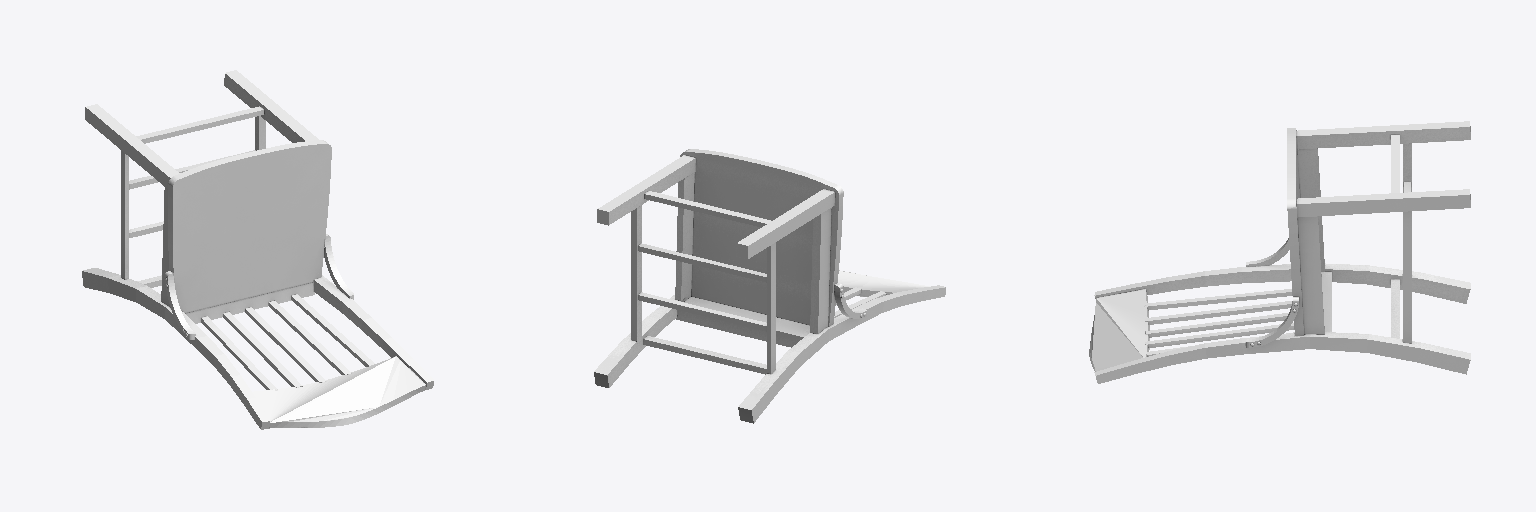
3 views of the same model, side by side, from view 1: azimuth 30°, elevation 25°; view 2: azimuth 150°, elevation 25°; view 3: azimuth 270°, elevation 25° (orthographic).
Size of the model in its own units: 0.528 by 0.574 by 1.01.
Materials: 1 (1 with a texture image).